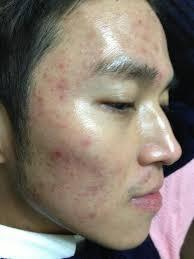fore: (88, 157, 107, 180), (54, 78, 71, 95), (48, 143, 62, 160), (133, 44, 150, 58), (82, 208, 97, 223), (71, 150, 87, 164), (81, 185, 98, 195), (141, 170, 156, 181), (56, 57, 65, 70), (58, 119, 68, 129), (35, 95, 46, 104), (82, 135, 91, 146)
